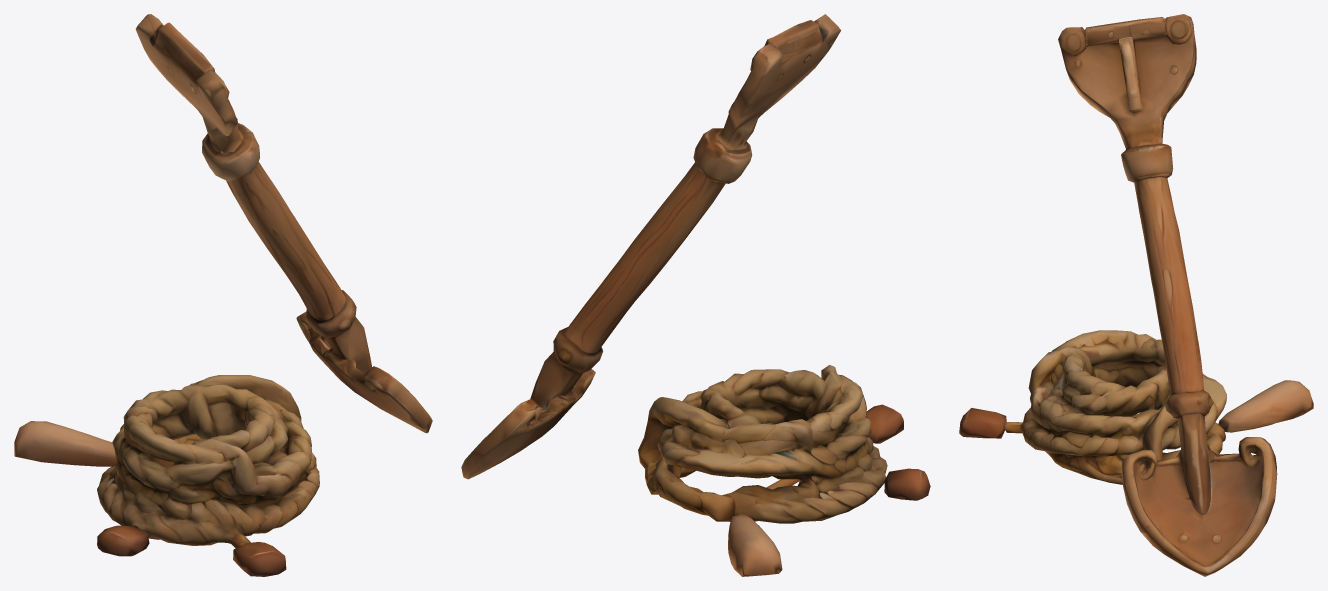
The model's file is tools-model.glb.
3 renders of one model, left to right at view 1: azimuth 30°, elevation 25°; view 2: azimuth 150°, elevation 25°; view 3: azimuth 270°, elevation 25°, orthographic. The views are drawn at different scales.
Visible parts, largest first — view 1: tripo_node_5c2f14a2-f0f2-41aa-9078-e4ea881633a5; view 2: tripo_node_5c2f14a2-f0f2-41aa-9078-e4ea881633a5; view 3: tripo_node_5c2f14a2-f0f2-41aa-9078-e4ea881633a5.
Part boxes in pixels (<box>): tripo_node_5c2f14a2-f0f2-41aa-9078-e4ea881633a5: <box>14,14,432,576</box>; tripo_node_5c2f14a2-f0f2-41aa-9078-e4ea881633a5: <box>461,14,930,576</box>; tripo_node_5c2f14a2-f0f2-41aa-9078-e4ea881633a5: <box>959,14,1313,576</box>.
Bounding box in the file's own units: 0.837 × 1 × 0.7326.
1 material, 1 textured.
